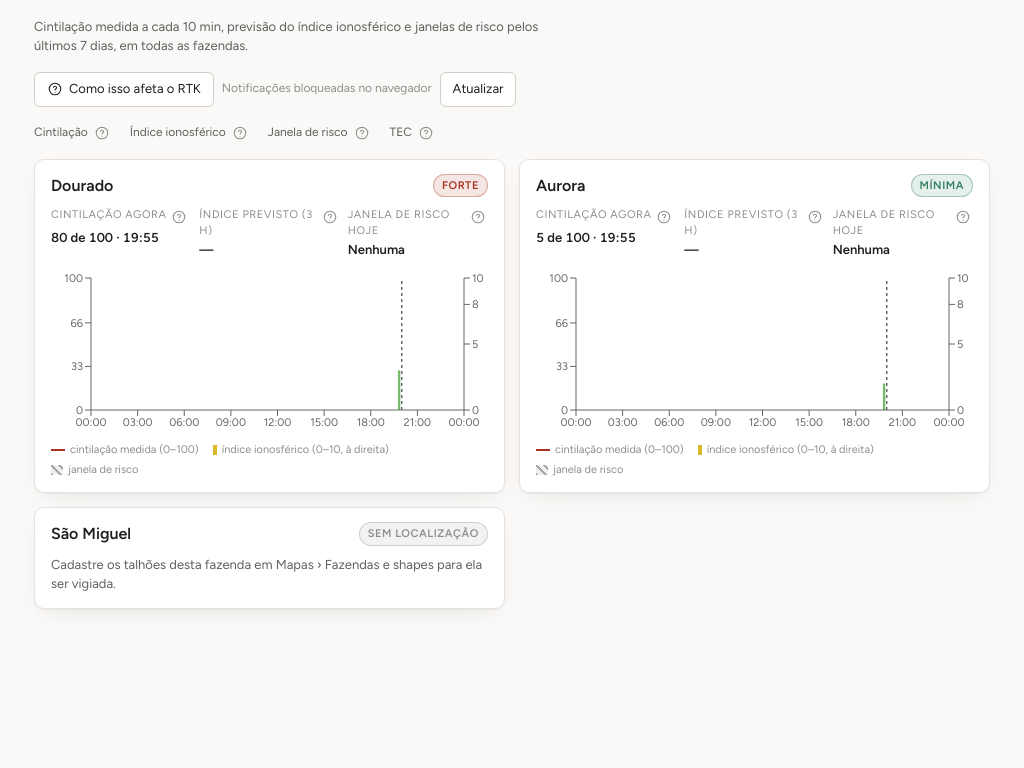
Test: página Hoje › o "?" de um item abre a caixa com o efeito no RTK
Click the button named "O que é Cintilação ionosférica?" below "Dourado": (178, 218) x1=168 y1=208 x2=188 y2=228
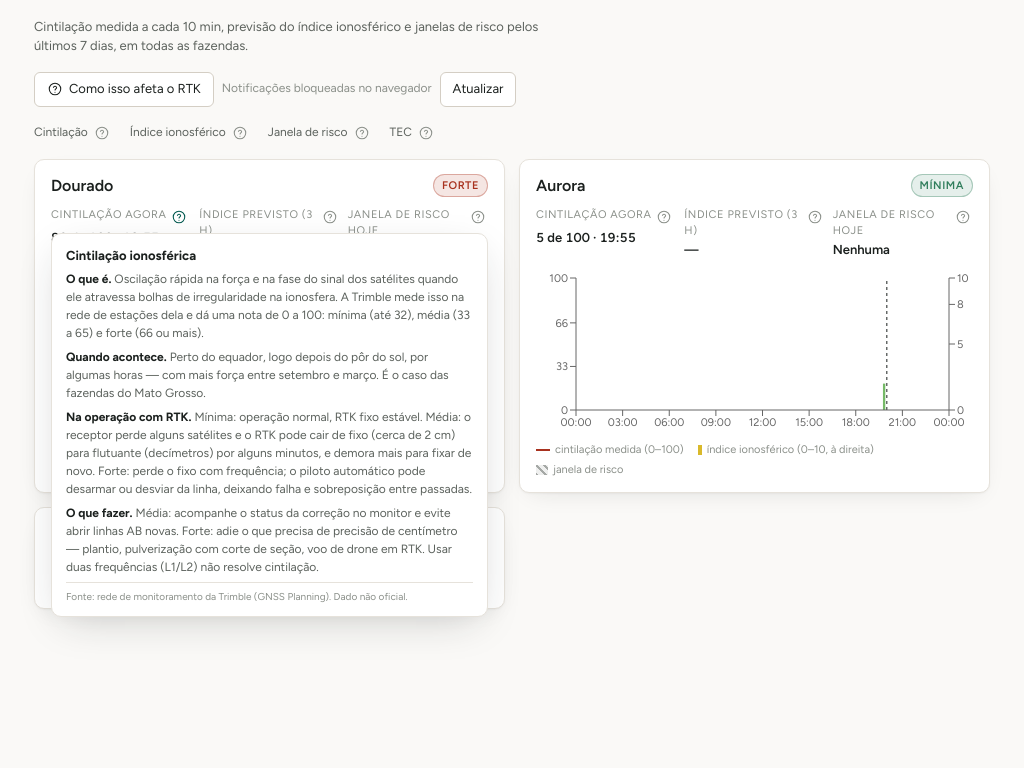
Now the dialog shows "Na operação com RTK.", box x1=66 y1=410 x2=191 y2=424
